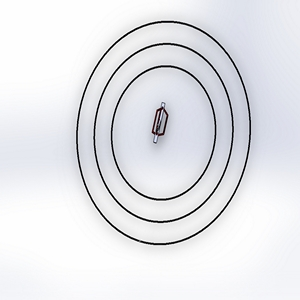circle: (70, 16, 256, 256)
submarine: (144, 99, 177, 147)
